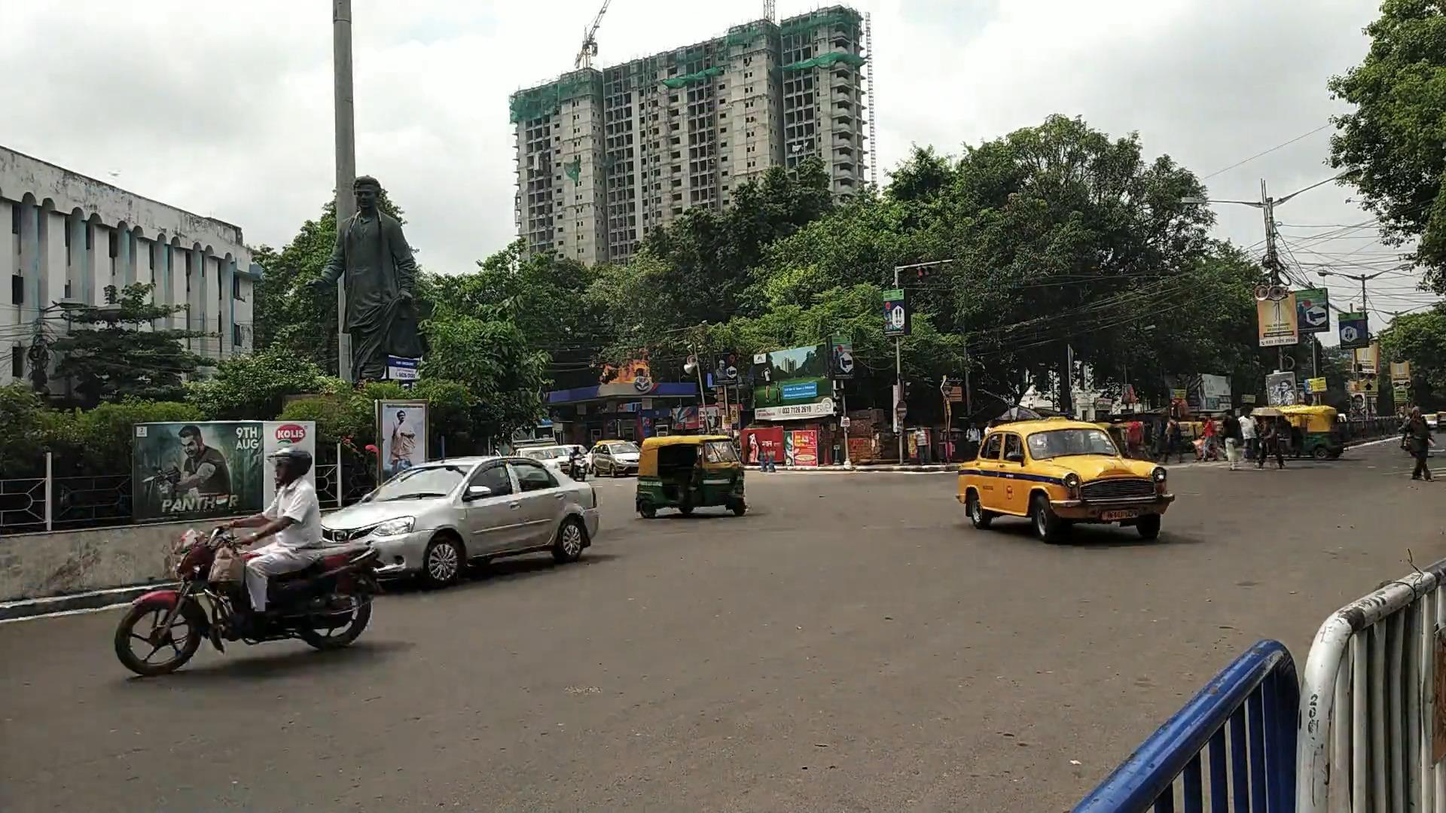driver: (115, 447, 380, 676)
helmet: (267, 446, 313, 484)
